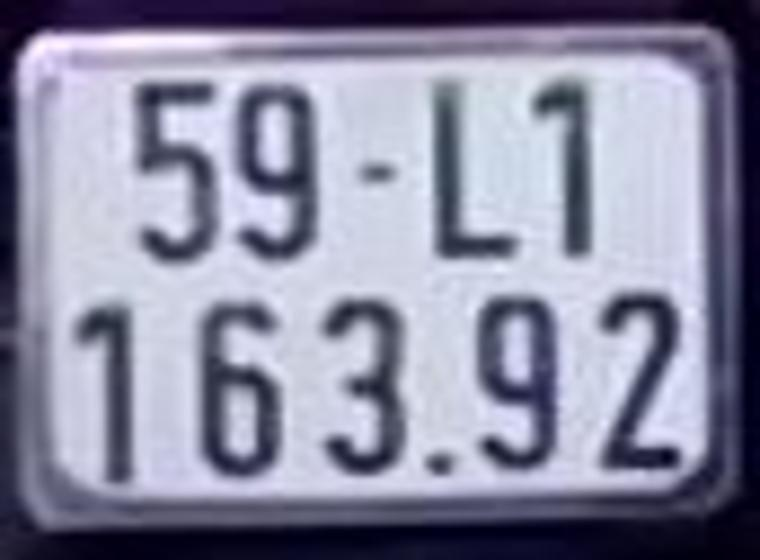-: (359, 167, 393, 183)
.: (426, 457, 449, 481)
1: (75, 295, 133, 481), (535, 81, 596, 257)
2: (594, 288, 681, 470), (319, 294, 405, 470)
5: (133, 85, 217, 260)
6: (199, 295, 280, 472)
9: (235, 83, 317, 259), (479, 299, 554, 473)
L: (431, 82, 512, 259)
